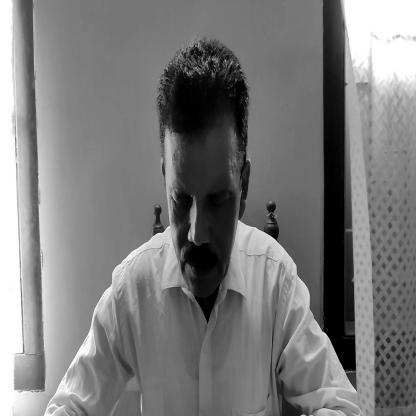Normal: (160, 39, 247, 295)
